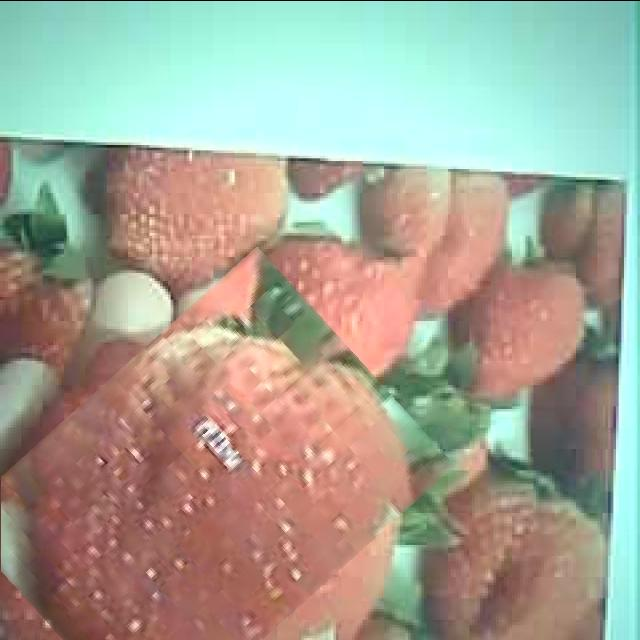strawberry: (0, 295, 432, 640)
